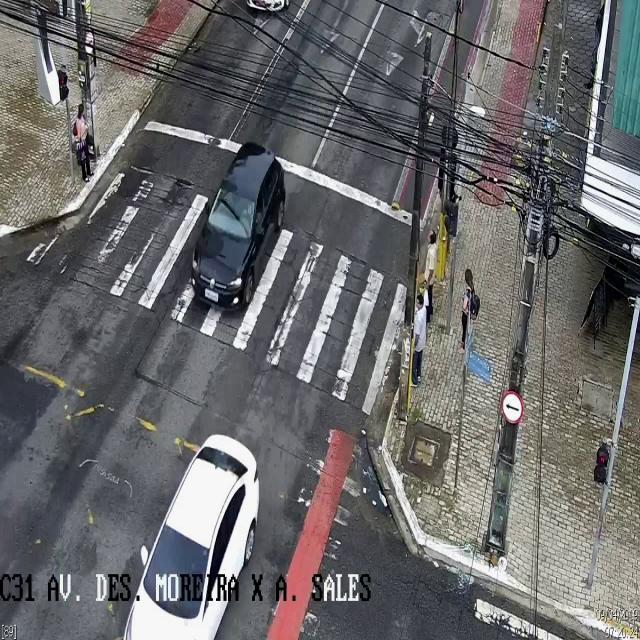Car: (122, 433, 260, 639), (191, 142, 285, 310)
